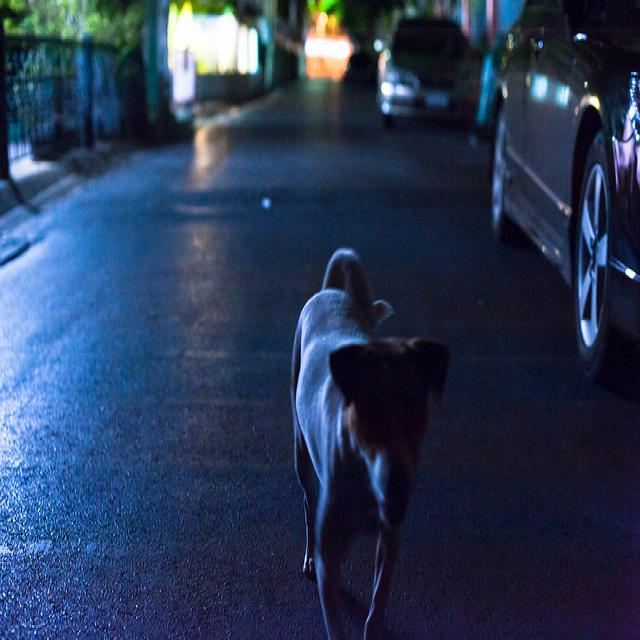Dog: (253, 252, 453, 640)
